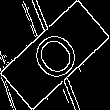O_SE: (23, 22, 87, 88)
